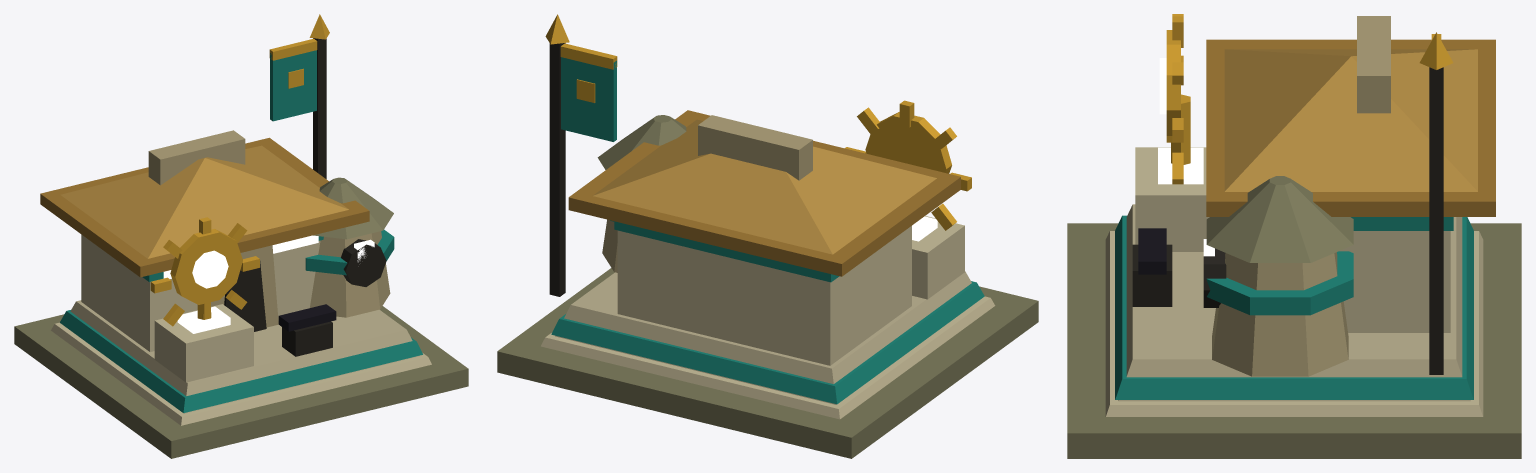
File: workshop_t3.glb
The picture shows the model from 3 angles, left to right: view 1: azimuth 30°, elevation 25°; view 2: azimuth 150°, elevation 25°; view 3: azimuth 270°, elevation 25°; orthographic projection. The views are drawn at different scales.
Parts seen in each view (by area): view 1: body, glow; view 2: body; view 3: body, glow.
Part boxes in pixels (x1=…): body: x1=14, y1=14, x2=468, y2=458; glow: x1=163, y1=235, x2=374, y2=333; body: x1=497, y1=14, x2=1038, y2=458; body: x1=1067, y1=14, x2=1521, y2=458; glow: x1=1158, y1=58, x2=1214, y2=256.
Bounding box in the file's own units: 1.75 × 1.6 × 1.6.
